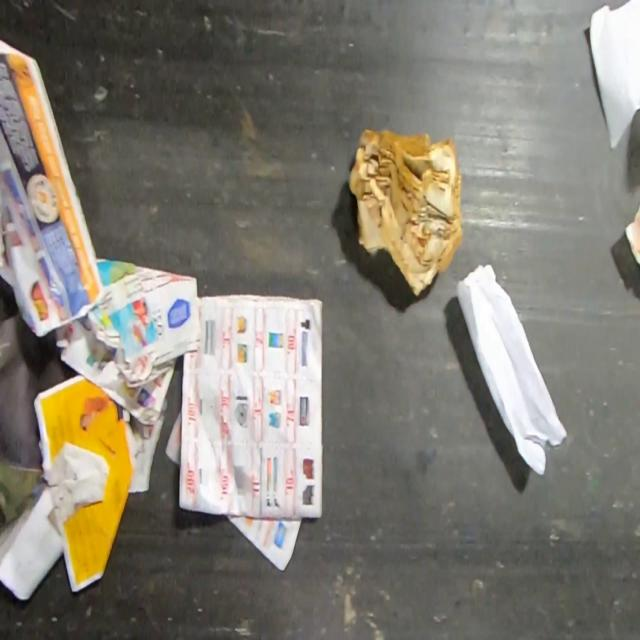cardboard: (348, 126, 466, 299)
